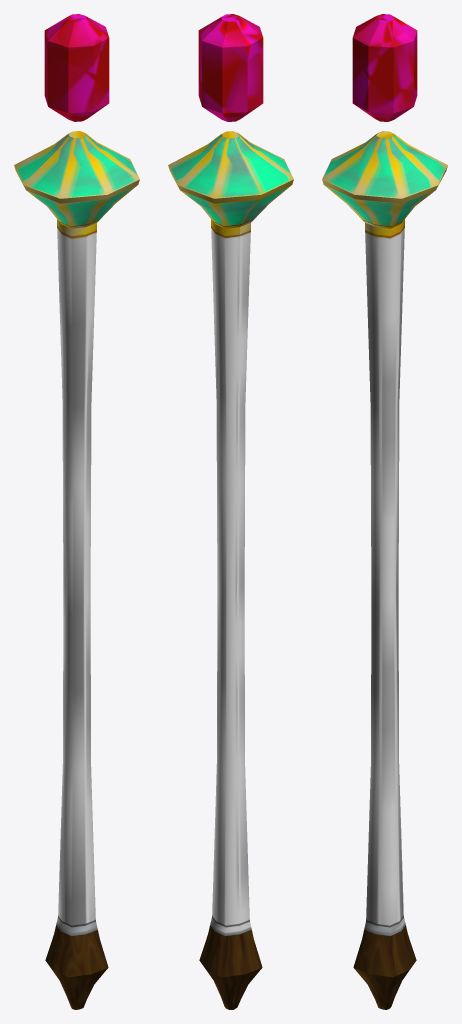
The model's file is OSP_wand.fbx.
3 renders of one model, left to right at view 1: azimuth 30°, elevation 25°; view 2: azimuth 210°, elevation 25°; view 3: azimuth 330°, elevation 25°, orthographic.
Parts seen in each view (by area): view 1: wand; view 2: wand; view 3: wand.
Boxes of the visible parts, x1,y1,x2,y2 form: wand: (14,14,139,1009); wand: (168,14,293,1009); wand: (322,14,447,1009).
Size of the model in its own units: 0.0915 by 0.8128 by 0.0915.
